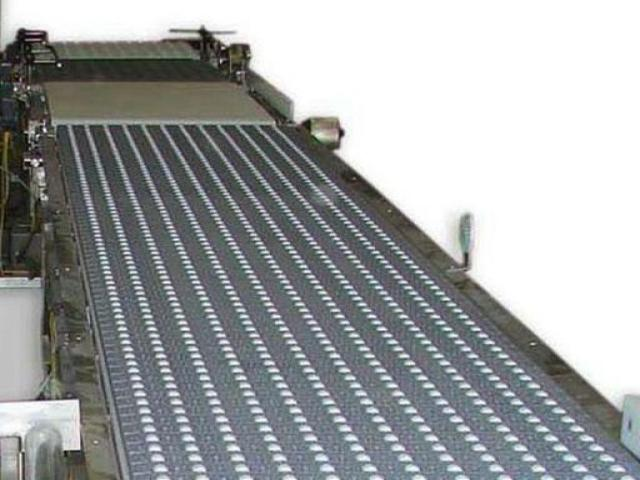conveyor: (6, 26, 640, 480)
